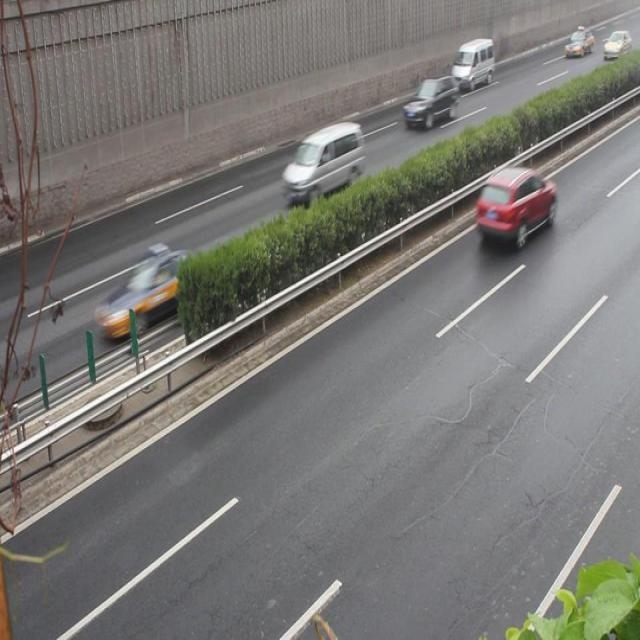car: (101, 246, 209, 336), (472, 165, 553, 243), (400, 76, 457, 128)
